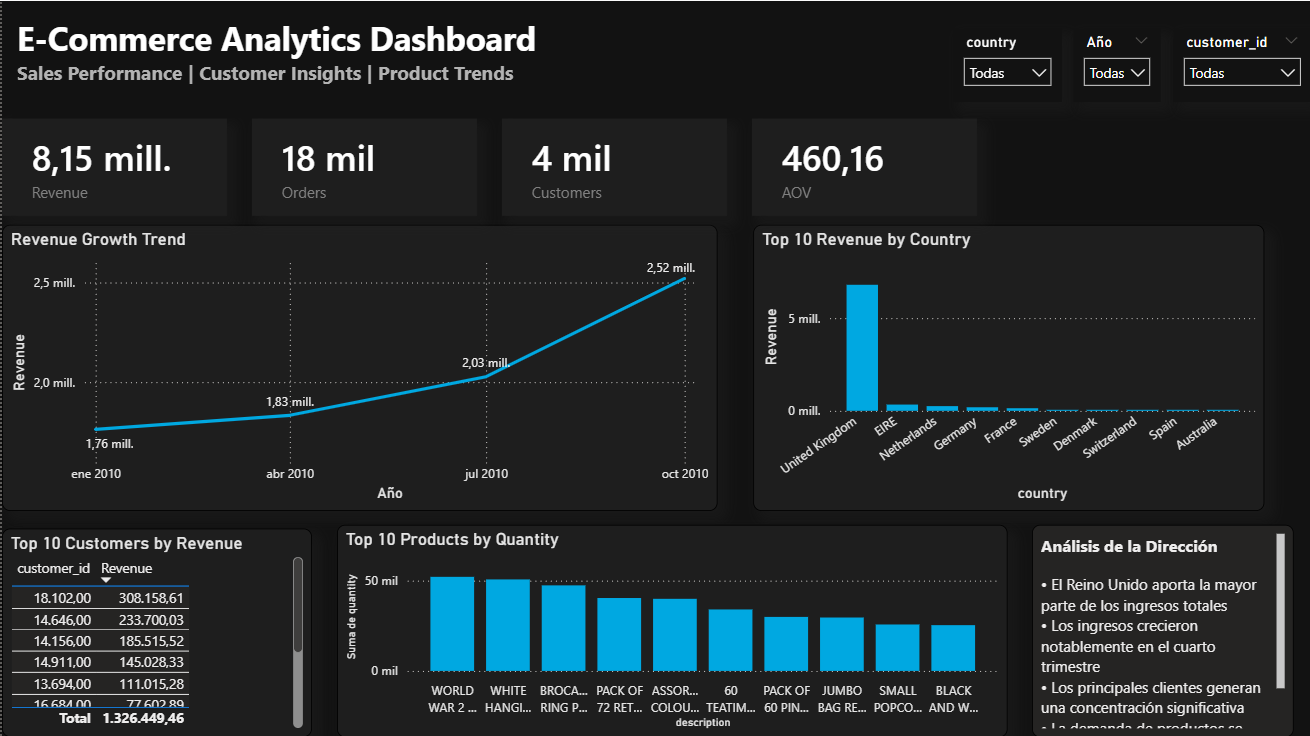

Layout of this report page (visuals, bound fields, positions):
{"tool":"powerbi","page":{"name":"Página 1","canvas":[1280,720],"ordinal":0},"visuals":[{"type":"lineChart","title":"Revenue Growth Trend","fields":{"Category":["public sales.invoice_date.Variación.Jerarquía de fechas.Año","public sales.invoice_date.Variación.Jerarquía de fechas.Trimestre","public sales.invoice_date.Variación.Jerarquía de fechas.Mes","public sales.invoice_date.Variación.Jerarquía de fechas.Día"],"Y":["public sales.Revenue"]},"box":[0,218.9,700,280],"z":0},{"type":"clusteredColumnChart","title":"Top 10 Revenue by Country","fields":{"Category":["public sales.country"],"Y":["public sales.Revenue"]},"box":[734.9,218.9,500,280],"z":1000},{"type":"tableEx","title":"Top 10 Customers by Revenue","fields":{"Values":["public sales.customer_id","public sales.Revenue"]},"box":[0,516,303.3,204.2],"z":2000},{"type":"clusteredColumnChart","title":"Top 10 Products by Quantity","fields":{"Category":["public sales.description"],"Y":["Sum(public sales.quantity)"]},"box":[327.6,512,656,208],"z":3000},{"type":"cardVisual","fields":{"Data":["public sales.Revenue"]},"box":[0,114.9,220,95],"z":4000},{"type":"cardVisual","fields":{"Data":["public sales.Customers"]},"box":[489.1,114.9,220.1,95.4],"z":5000},{"type":"cardVisual","fields":{"Data":["public sales.Orders"]},"box":[244.5,114.9,220.1,95.4],"z":6000},{"type":"cardVisual","fields":{"Data":["public sales.AOV"]},"box":[733.7,114.9,220.1,95.4],"z":7000},{"type":"textbox","box":[9.8,9.8,930.6,105.2],"z":8000},{"type":"slicer","fields":{"Values":["public sales.country"]},"box":[930.6,26.9,106.4,72.1],"z":9000},{"type":"slicer","fields":{"Values":["public sales.invoice_date.Variación.Jerarquía de fechas.Año"]},"box":[1048.6,26.9,85.6,72.1],"z":10000},{"type":"slicer","fields":{"Values":["public sales.customer_id"]},"box":[1145.5,26.9,134.5,72.1],"z":11000},{"type":"textbox","box":[1008,512,256,208],"z":11001}]}

Visuals, with their boxes in screenshot pixels (x1, y1, x2, y2), scaled from the page's 1280x720 canvas onto the 1310x736 screenshot:
"Revenue Growth Trend" lineChart: select_region(0, 224, 716, 510)
"Top 10 Revenue by Country" clusteredColumnChart: select_region(752, 224, 1264, 510)
"Top 10 Customers by Revenue" tableEx: select_region(0, 527, 310, 735)
"Top 10 Products by Quantity" clusteredColumnChart: select_region(335, 523, 1007, 735)
cardVisual - public sales.Revenue: select_region(0, 117, 225, 215)
cardVisual - public sales.Customers: select_region(501, 117, 726, 215)
cardVisual - public sales.Orders: select_region(250, 117, 475, 215)
cardVisual - public sales.AOV: select_region(751, 117, 976, 215)
textbox: select_region(10, 10, 962, 118)
slicer - public sales.country: select_region(952, 27, 1061, 101)
slicer - public sales.invoice_date.Variación.Jerarquía de fechas.Año: select_region(1073, 27, 1161, 101)
slicer - public sales.customer_id: select_region(1172, 27, 1309, 101)
textbox: select_region(1032, 523, 1294, 735)
